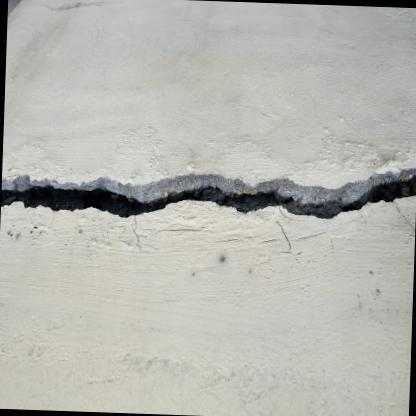crack: (0, 169, 416, 219)
